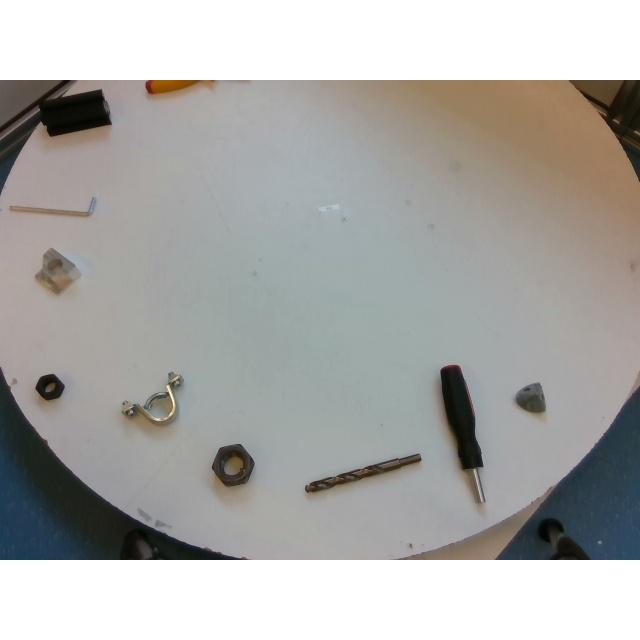Drill: (305, 452, 421, 492)
Housing: (121, 372, 182, 424)
M20: (36, 374, 64, 400)
M30: (212, 442, 254, 486)
S40_40_B: (39, 90, 110, 134)
